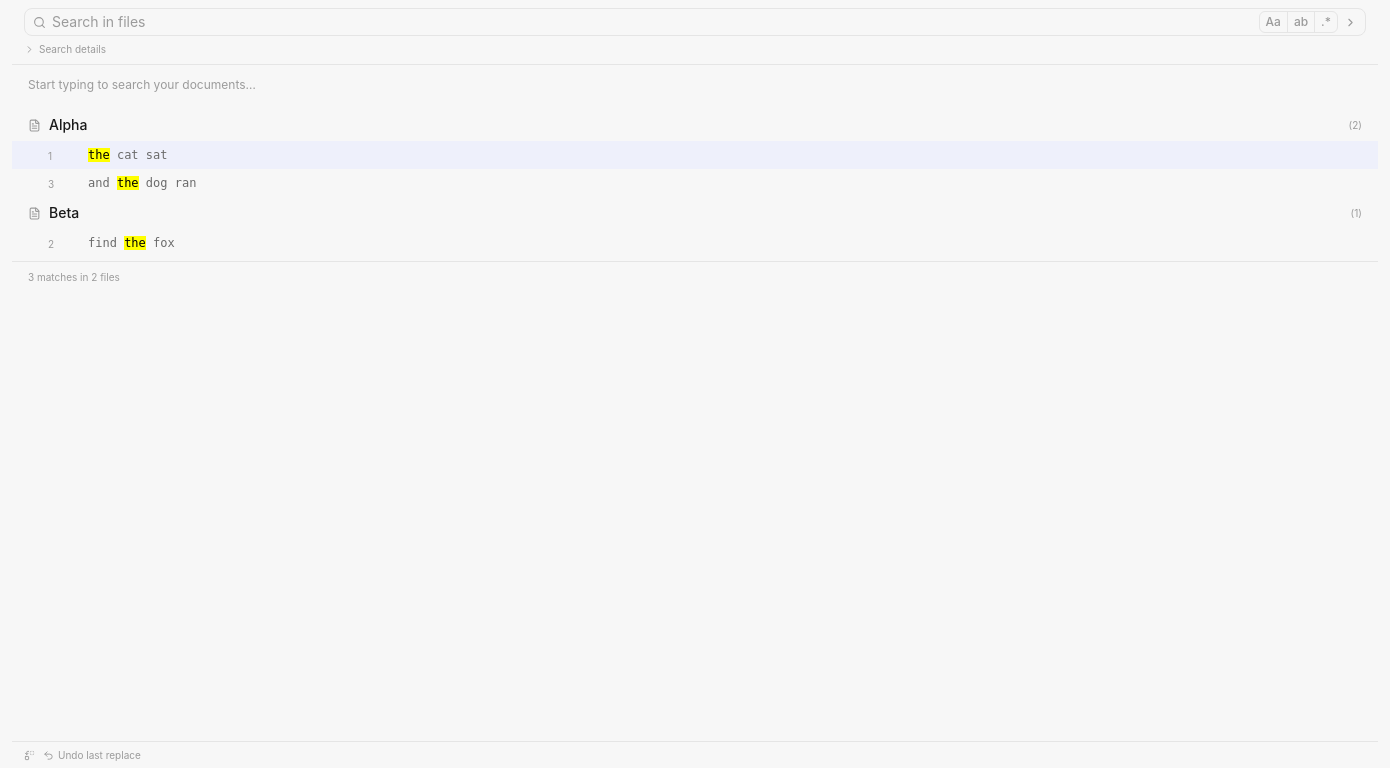
Test: SidebarSearch (Search view) › shows the regex hint only while regexp is on
Click the button with test id "search-match-case-.*": [1326, 22] box [1314,12,1337,32]
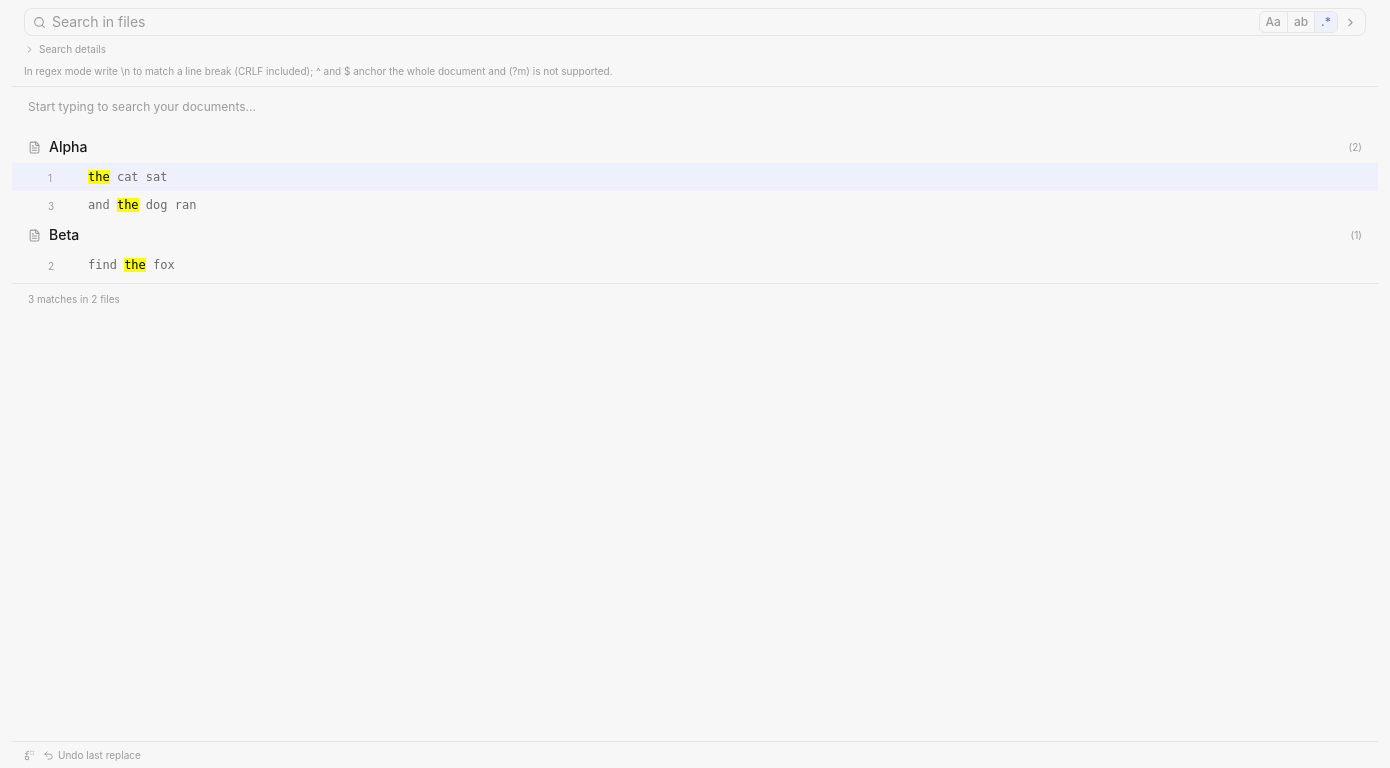
Expected: the text with test id "search-regex-hint" shows "\\n", [24,65,613,77]
